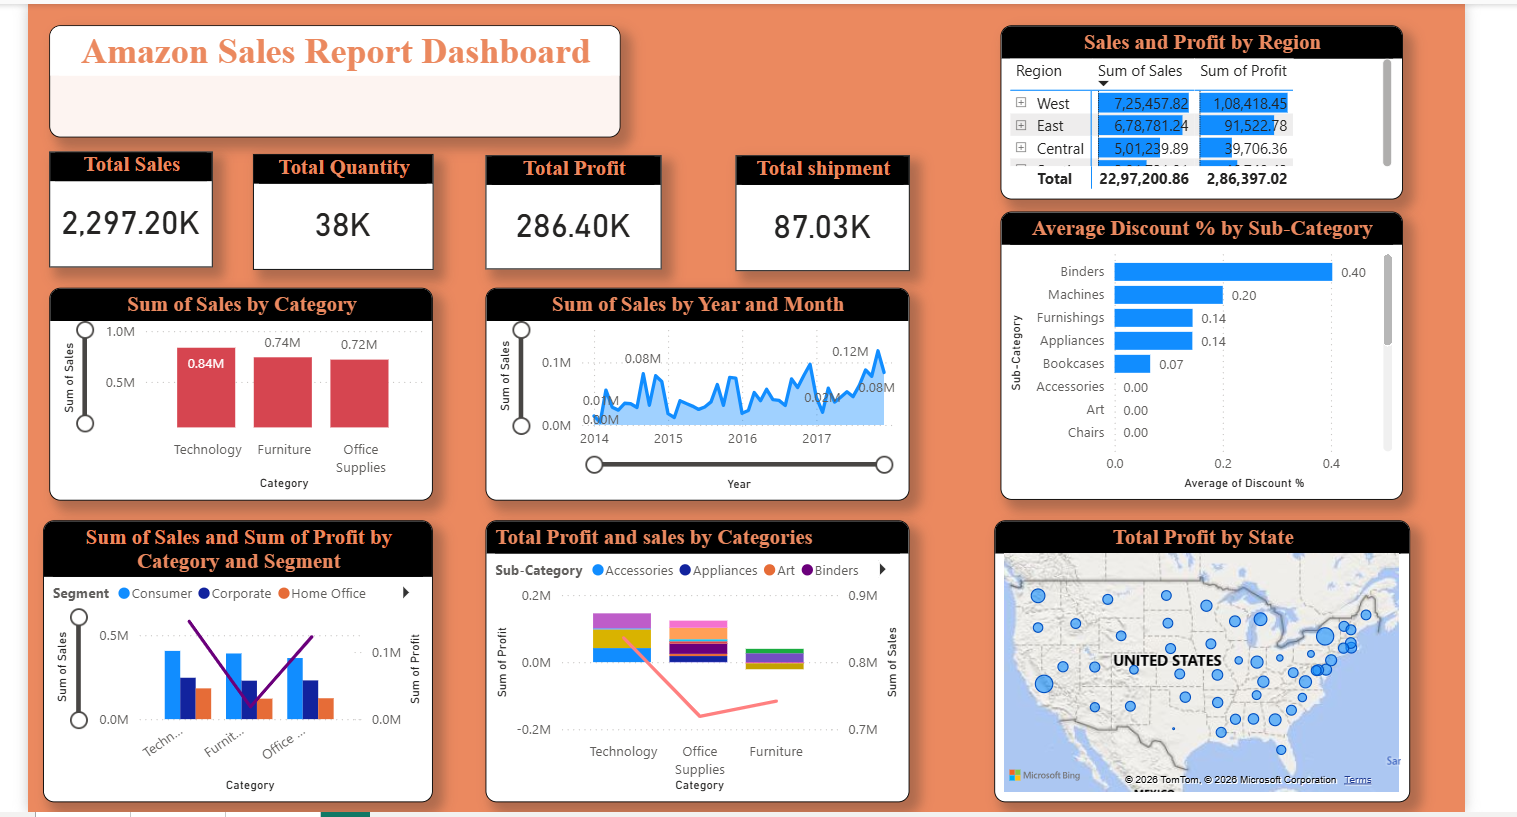

Layout of this report page (visuals, bound fields, positions):
{"tool":"powerbi","page":{"name":"Page 1","canvas":[1280,720],"ordinal":1},"visuals":[{"type":"card","title":"Total Sales","fields":{"Values":["Sum(Orders.Sales)"]},"box":[19.2,131.7,145.5,102.9],"z":0},{"type":"card","title":"Total Quantity","fields":{"Values":["Sum(Orders.Quantity)"]},"box":[200.3,133.1,160.5,102.9],"z":1000},{"type":"card","title":"Total Profit","fields":{"Values":["Sum(Orders.Profit)"]},"box":[407.5,134.5,156.4,101.5],"z":2000},{"type":"card","title":"Total shipment","fields":{"Values":["Sum(Orders.Shipment Cost)"]},"box":[629.8,134.5,155.1,102.9],"z":3000},{"type":"clusteredColumnChart","fields":{"Category":["Orders.Category"],"Y":["Sum(Orders.Sales)"]},"box":[19.2,252.5,341.7,189.4],"z":4000},{"type":"lineChart","fields":{"Category":["Orders.Order Date.Variation.Date Hierarchy.Year","Orders.Order Date.Variation.Date Hierarchy.Month"],"Y":["Sum(Orders.Sales)"]},"box":[407.5,252.5,377.4,189.4],"z":5000},{"type":"lineClusteredColumnComboChart","fields":{"Category":["Orders.Category"],"Y":["Sum(Orders.Sales)"],"Y2":["Sum(Orders.Profit)"],"Series":["Orders.Segment"]},"box":[13.4,459.7,347.3,251.6],"z":6000},{"type":"lineStackedColumnComboChart","title":"Total Profit and sales by Categories","fields":{"Category":["Orders.Category"],"Y":["Sum(Orders.Profit)"],"Y2":["Sum(Orders.Sales)"],"Series":["Orders.Sub-Category"]},"box":[407.5,459.7,377.4,251.1],"z":7000},{"type":"clusteredBarChart","title":"Average Discount % by Sub-Category","fields":{"Category":["Orders.Sub-Category"],"Y":["Avg(Orders.Discount %)"]},"box":[865.9,185.2,358.1,256.6],"z":8000},{"type":"pivotTable","title":"Sales and Profit by Region","fields":{"Rows":["Orders.Region","Orders.State","Orders.City"],"Values":["Sum(Orders.Sales)","Sum(Orders.Profit)"]},"box":[865.9,19.2,358.1,155.1],"z":9000},{"type":"map","title":"Total Profit by State","fields":{"Category":["Orders.State"],"Size":["Sum(Orders.Profit)"]},"box":[860.4,459.7,370.5,251.1],"z":10000},{"type":"textbox","title":"Amazon Sales Report Dashboard","box":[19.2,19.2,509.1,100.2],"z":11000}]}

Visuals, with their boxes in screenshot pixels (x1, y1, x2, y2):
"Total Sales" card: bbox=[45, 151, 208, 267]
"Total Quantity" card: bbox=[248, 153, 428, 268]
"Total Profit" card: bbox=[480, 155, 655, 268]
"Total shipment" card: bbox=[729, 155, 903, 270]
clusteredColumnChart - Orders.Category x Sum(Orders.Sales): bbox=[45, 287, 428, 499]
lineChart - Orders.Order Date.Variation.Date Hierarchy.Year x Orders.Order Date.Variation.Date Hierarchy.Month: bbox=[480, 287, 903, 499]
lineClusteredColumnComboChart - Orders.Category x Sum(Orders.Sales): bbox=[39, 519, 428, 801]
"Total Profit and sales by Categories" lineStackedColumnComboChart: bbox=[480, 519, 903, 800]
"Average Discount % by Sub-Category" clusteredBarChart: bbox=[994, 211, 1395, 499]
"Sales and Profit by Region" pivotTable: bbox=[994, 25, 1395, 199]
"Total Profit by State" map: bbox=[987, 519, 1402, 800]
"Amazon Sales Report Dashboard" textbox: bbox=[45, 25, 615, 138]
